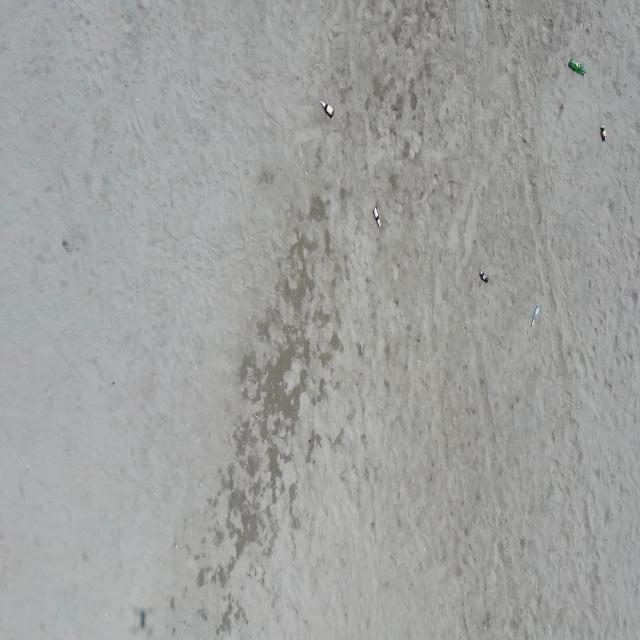glass: (570, 58, 586, 74), (321, 100, 334, 117), (531, 304, 540, 326), (373, 206, 380, 227), (479, 270, 488, 284), (600, 124, 607, 141)
